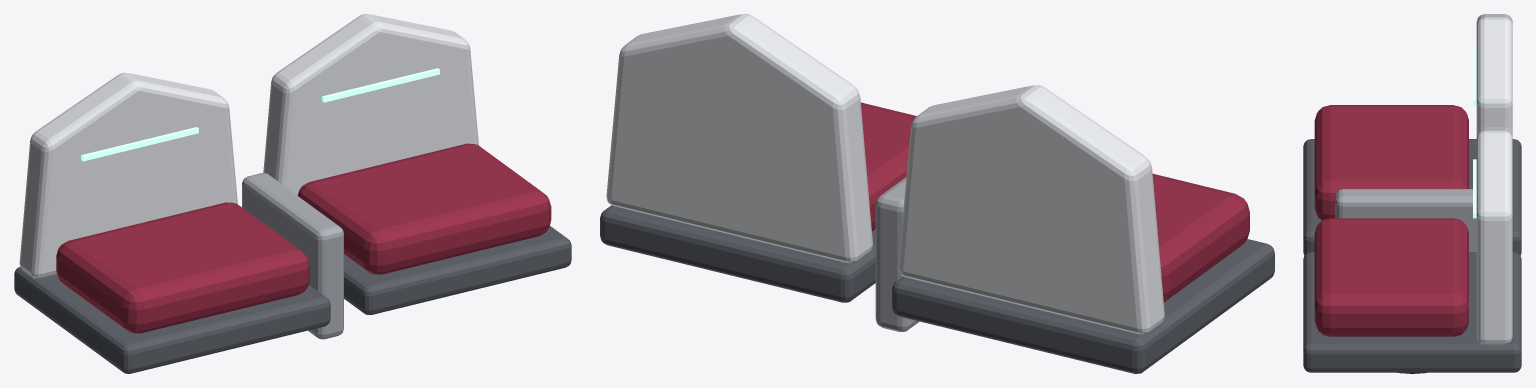
Rendered from sofa_pod_pair.glb.
3 renders of one model, left to right at view 1: azimuth 30°, elevation 25°; view 2: azimuth 150°, elevation 25°; view 3: azimuth 270°, elevation 25°, orthographic. The views are drawn at different scales.
Visible parts, largest first — view 1: GD_sofa_pod_pair__m3, GD_sofa_pod_pair__m1, GD_sofa_pod_pair__m0, GD_sofa_pod_pair__m2, GD_sofa_pod_pair__m4; view 2: GD_sofa_pod_pair__m3, GD_sofa_pod_pair__m0, GD_sofa_pod_pair__m1, GD_sofa_pod_pair__m2; view 3: GD_sofa_pod_pair__m1, GD_sofa_pod_pair__m0, GD_sofa_pod_pair__m3, GD_sofa_pod_pair__m2, GD_sofa_pod_pair__m4.
Part boxes in pixels (bbox=[...]): GD_sofa_pod_pair__m3: bbox=[19, 14, 478, 278]; GD_sofa_pod_pair__m1: bbox=[56, 143, 551, 333]; GD_sofa_pod_pair__m0: bbox=[14, 226, 571, 373]; GD_sofa_pod_pair__m2: bbox=[242, 173, 343, 339]; GD_sofa_pod_pair__m4: bbox=[81, 68, 439, 161]; GD_sofa_pod_pair__m3: bbox=[606, 14, 1164, 334]; GD_sofa_pod_pair__m0: bbox=[600, 205, 1274, 373]; GD_sofa_pod_pair__m1: bbox=[860, 102, 1249, 302]; GD_sofa_pod_pair__m2: bbox=[875, 177, 919, 331]; GD_sofa_pod_pair__m1: bbox=[1314, 105, 1468, 336]; GD_sofa_pod_pair__m0: bbox=[1303, 139, 1521, 372]; GD_sofa_pod_pair__m3: bbox=[1476, 14, 1512, 344]; GD_sofa_pod_pair__m2: bbox=[1335, 189, 1476, 251]; GD_sofa_pod_pair__m4: bbox=[1473, 46, 1476, 218].
Size of the model in its own units: 1.94 by 0.9542 by 0.85.
